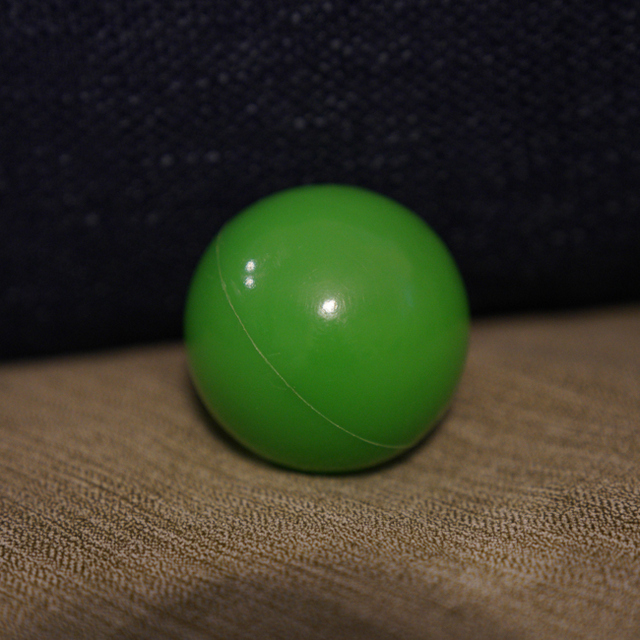Ball: (182, 183, 467, 474)
